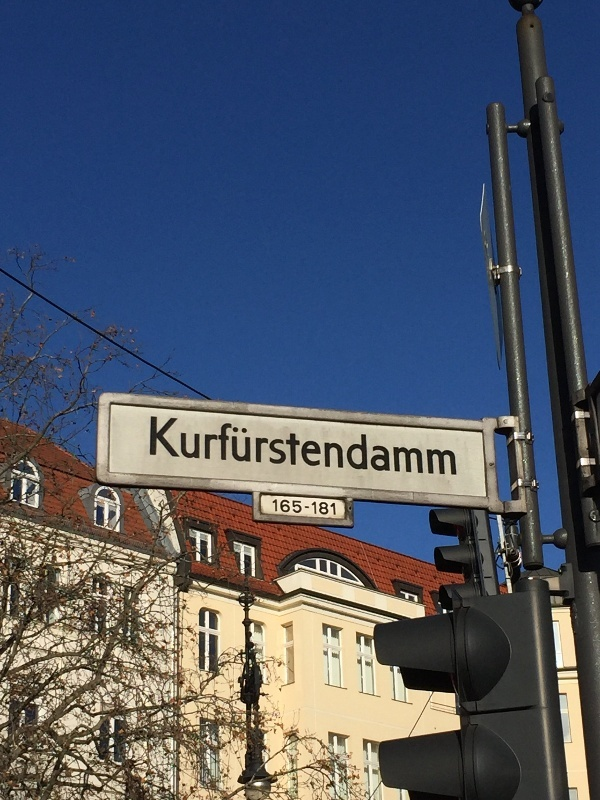text: (161, 416, 176, 478), (177, 416, 192, 478), (193, 416, 208, 478), (209, 416, 224, 478), (225, 416, 240, 478), (241, 416, 256, 478), (257, 416, 272, 478), (273, 416, 288, 478), (289, 416, 304, 478), (305, 416, 320, 478), (321, 416, 336, 478), (337, 416, 352, 478), (353, 416, 368, 478), (369, 416, 384, 478), (385, 416, 400, 478), (401, 416, 416, 478), (417, 416, 432, 478), (433, 416, 448, 478), (149, 416, 160, 478), (449, 416, 458, 478), (321, 501, 336, 516), (273, 499, 288, 513), (289, 499, 302, 513), (311, 501, 320, 516), (305, 505, 320, 509)
